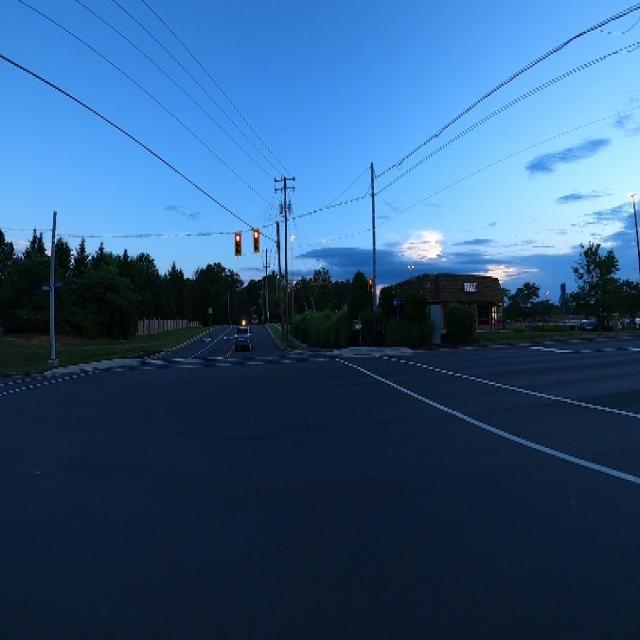car: (230, 318, 257, 354)
